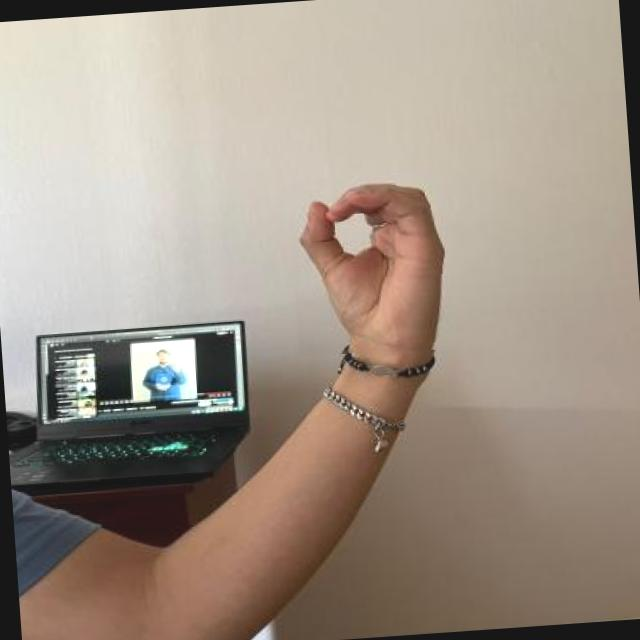O: (287, 172, 458, 360)
